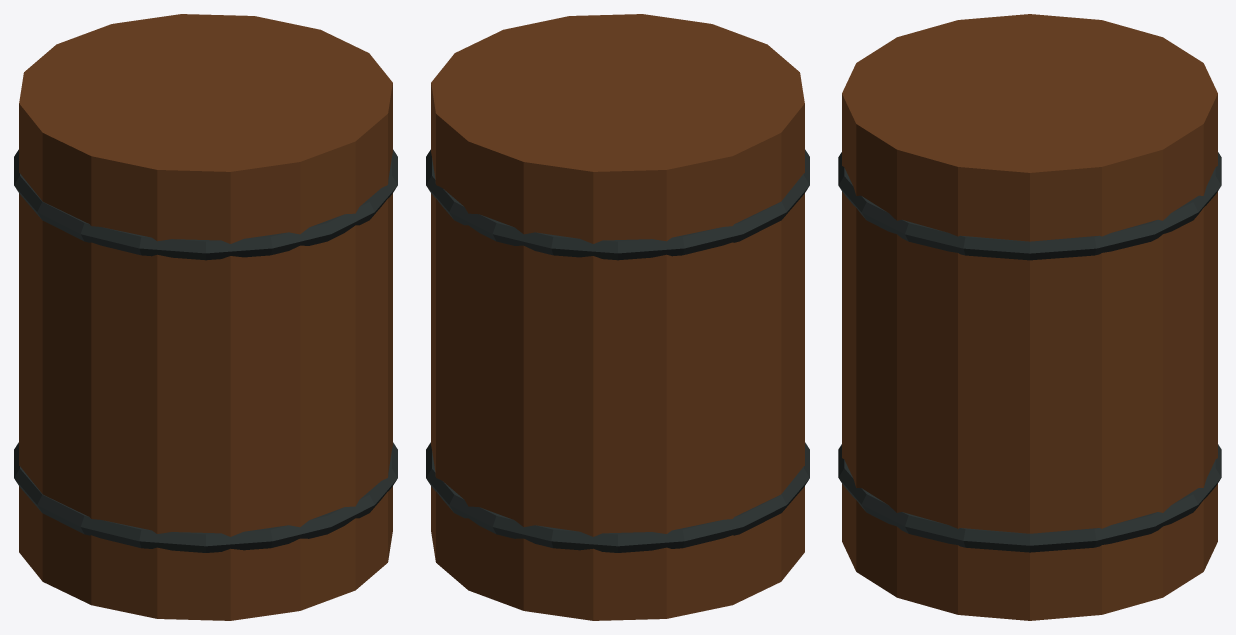
The model's file is barrel_flammable_LOD1.glb.
The picture shows the model from 3 angles, left to right: view 1: azimuth 30°, elevation 25°; view 2: azimuth 150°, elevation 25°; view 3: azimuth 270°, elevation 25°; orthographic projection.
Visible parts, largest first — view 1: LOD1_Barrel, LOD1_Hoop, LOD1_Hoop.001; view 2: LOD1_Barrel, LOD1_Hoop, LOD1_Hoop.001; view 3: LOD1_Barrel, LOD1_Hoop, LOD1_Hoop.001.
Boxes of the visible parts, x1,y1,x2,y2 form: LOD1_Barrel: (19, 14, 392, 620); LOD1_Hoop: (14, 442, 397, 552); LOD1_Hoop.001: (14, 149, 397, 260); LOD1_Barrel: (431, 14, 804, 620); LOD1_Hoop: (426, 442, 809, 552); LOD1_Hoop.001: (426, 149, 809, 260); LOD1_Barrel: (842, 14, 1217, 620); LOD1_Hoop: (838, 444, 1221, 552); LOD1_Hoop.001: (838, 152, 1221, 260).
Bounding box in the file's own units: 0.724 × 0.92 × 0.713.
